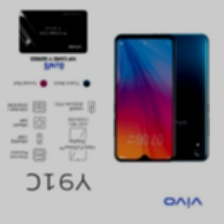book: (17, 8, 90, 54)
phone: (111, 30, 179, 164), (149, 31, 213, 162)
